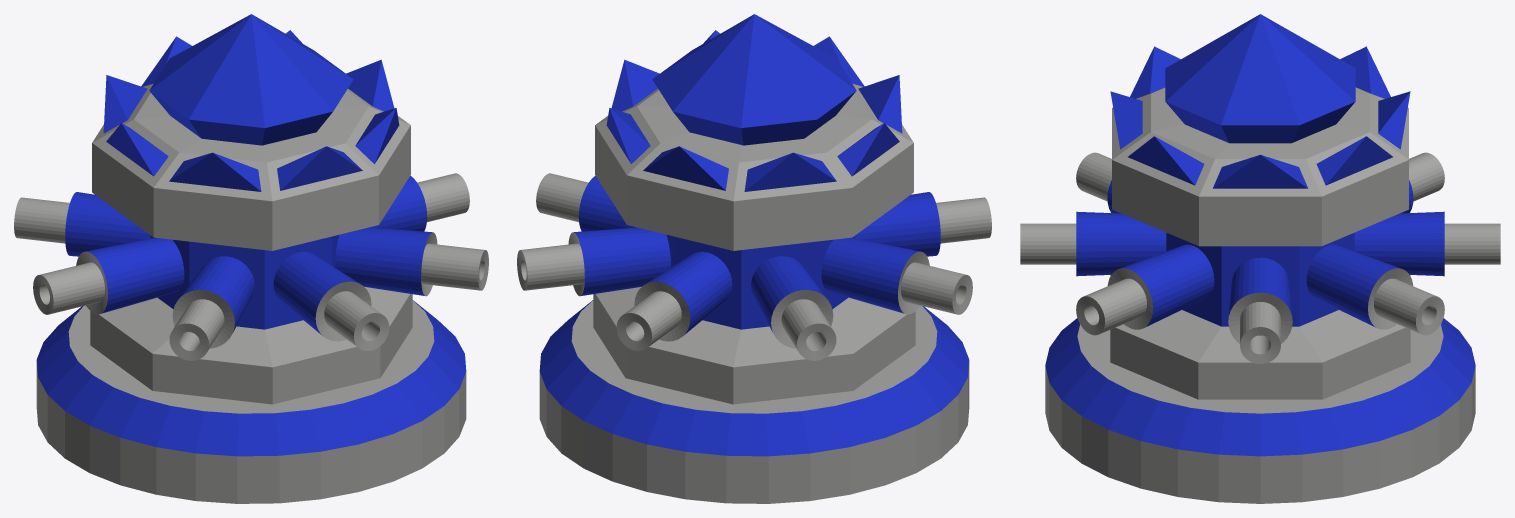
File: spikey_upgraded_water.fbx
3 views of the same model, side by side, from view 1: azimuth 30°, elevation 25°; view 2: azimuth 150°, elevation 25°; view 3: azimuth 270°, elevation 25° (orthographic).
Visible parts, largest first — view 1: Circle; view 2: Circle; view 3: Circle.
Part boxes in pixels (left/top/right/bottom): Circle: left=14, top=14, right=488, bottom=503; Circle: left=517, top=14, right=991, bottom=503; Circle: left=1020, top=14, right=1500, bottom=503.
Size of the model in its own units: 223 by 205 by 223.
Materials: 1 (1 with a texture image).
